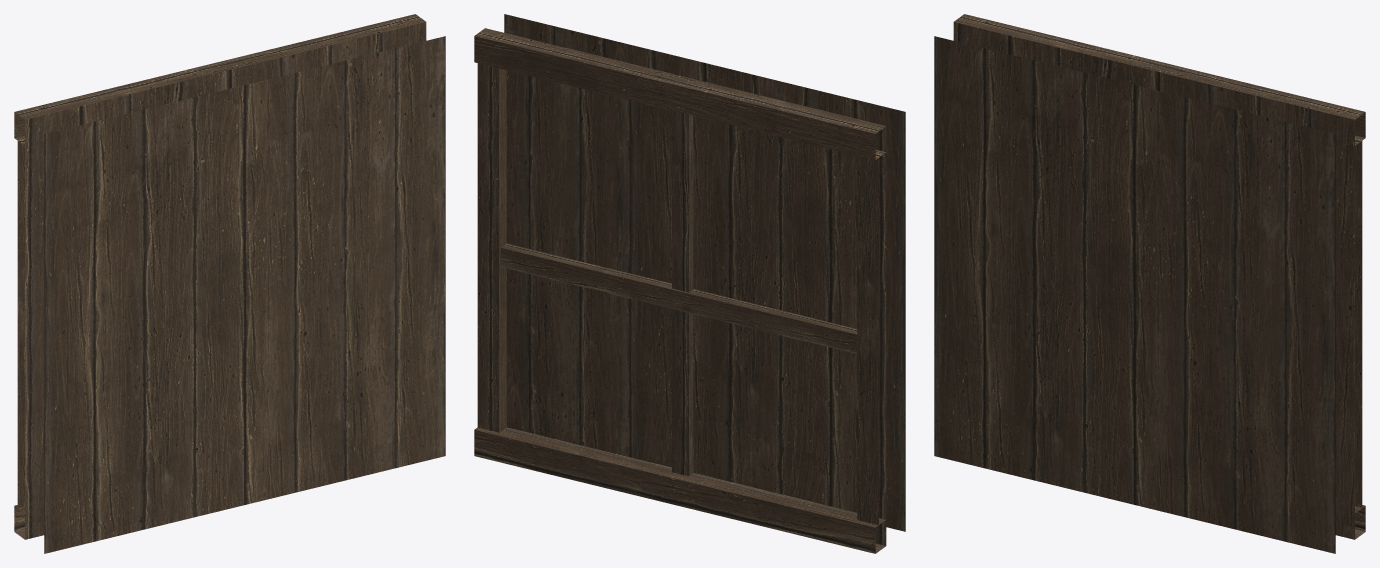
File: ARC1010319.fbx
The picture shows the model from 3 angles, left to right: view 1: azimuth 30°, elevation 25°; view 2: azimuth 150°, elevation 25°; view 3: azimuth 330°, elevation 25°; orthographic projection.
Visible parts, largest first — view 1: smARC1010319; view 2: smARC1010319; view 3: smARC1010319.
Boxes of the visible parts, bbox=[...] form: smARC1010319: bbox=[14, 14, 445, 553]; smARC1010319: bbox=[474, 14, 905, 553]; smARC1010319: bbox=[934, 14, 1365, 553].
Bounding box in the file's own units: 268 × 268 × 34.9.
Materials: 1 (1 with a texture image).
